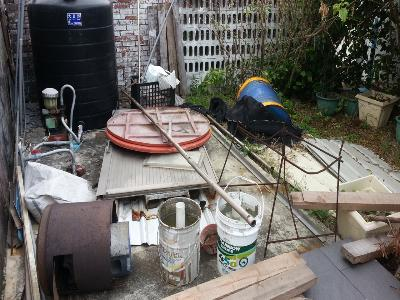bucket: (27, 1, 121, 134), (216, 191, 265, 280), (155, 196, 203, 284), (237, 77, 293, 132)
plate: (108, 106, 211, 146)
